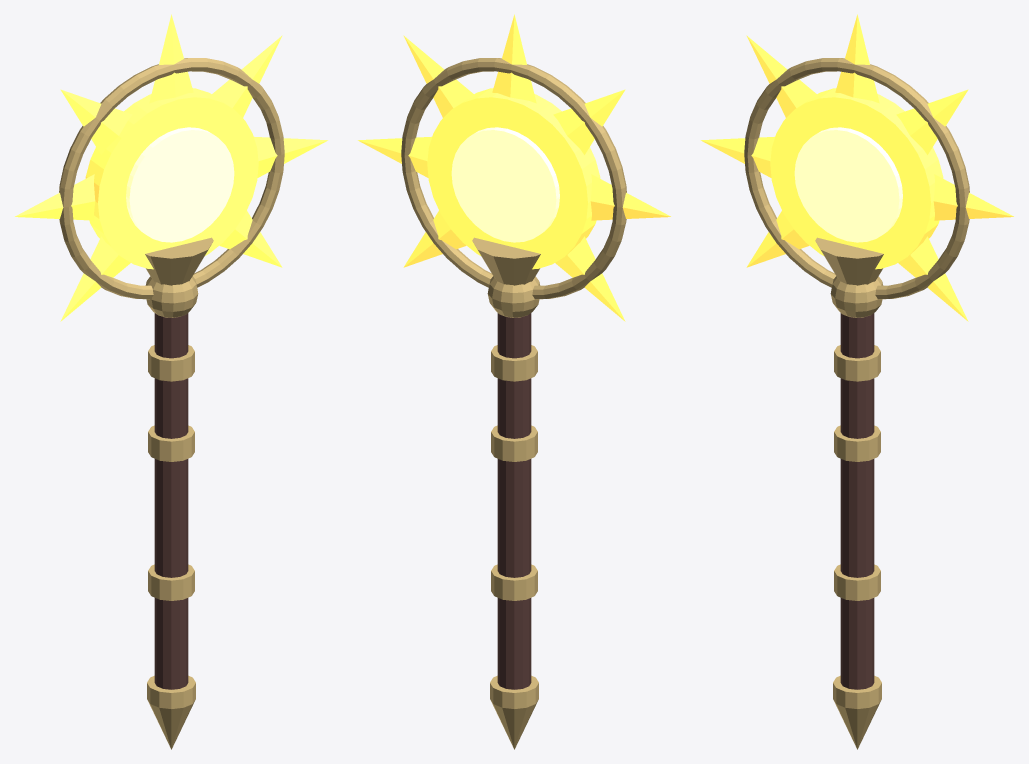
File: sun_scepter.glb
The picture shows the model from 3 angles, left to right: view 1: azimuth 30°, elevation 25°; view 2: azimuth 150°, elevation 25°; view 3: azimuth 330°, elevation 25°; orthographic projection.
Visible parts, largest first — view 1: Sun, Staff, Charge; view 2: Sun, Staff, Charge; view 3: Sun, Staff, Charge.
Part boxes in pixels (left/top/right/bottom): Sun: left=15, top=14, right=327, bottom=321; Staff: left=145, top=237, right=213, bottom=749; Charge: left=59, top=58, right=284, bottom=299; Sun: left=358, top=14, right=670, bottom=321; Staff: left=472, top=237, right=540, bottom=749; Charge: left=401, top=58, right=626, bottom=299; Sun: left=701, top=14, right=1013, bottom=321; Staff: left=815, top=237, right=883, bottom=749; Charge: left=744, top=58, right=969, bottom=299.
Bounding box in the file's own units: 0.45 × 1.01 × 0.105.
